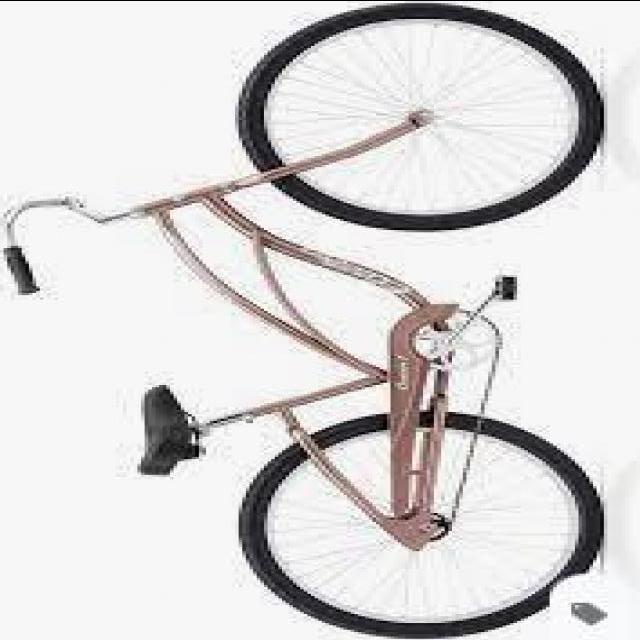bicycle: (1, 6, 608, 635)
